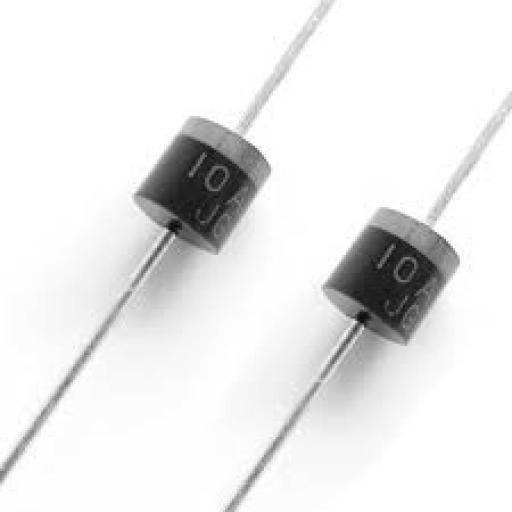DIODE: (308, 168, 475, 428), (136, 98, 310, 332)
